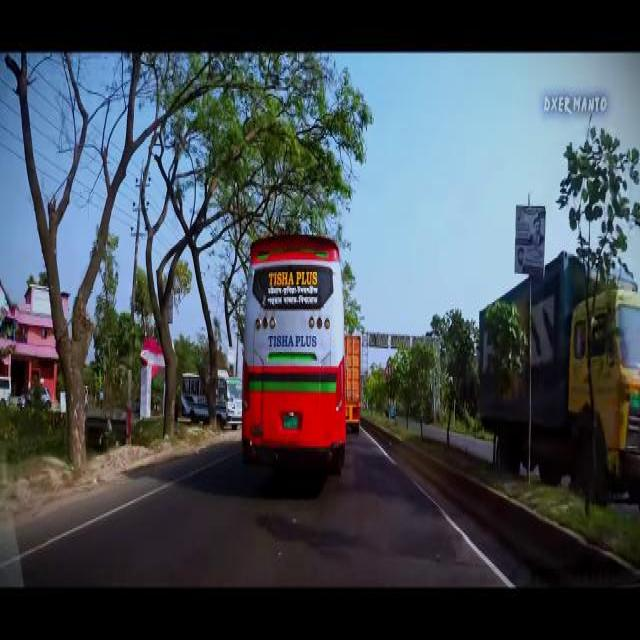18: (477, 245, 639, 510), (344, 330, 362, 438)
Truck: (240, 228, 346, 480), (218, 364, 242, 436)
